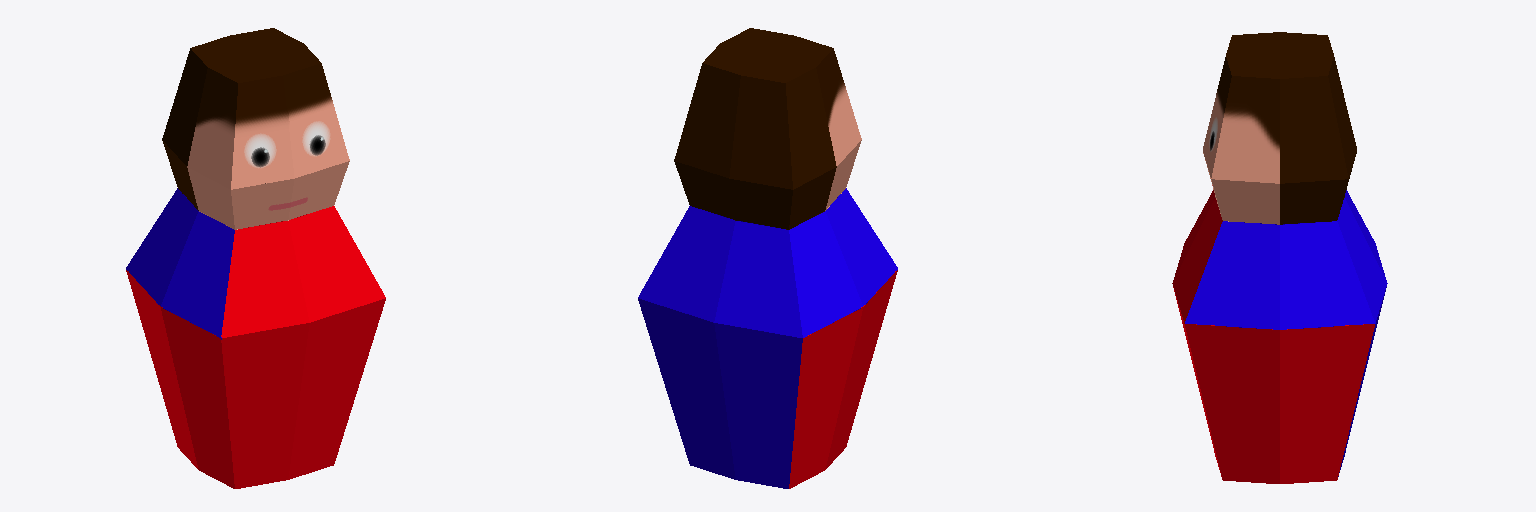
The picture shows the model from 3 angles: view 1: azimuth 30°, elevation 25°; view 2: azimuth 150°, elevation 25°; view 3: azimuth 270°, elevation 25°; orthographic projection.
Parts seen in each view (by area): view 1: Cube; view 2: Cube; view 3: Cube.
Part boxes in pixels (x1,y1,x2,y2): Cube: (126, 28, 385, 488); Cube: (638, 28, 897, 488); Cube: (1172, 32, 1387, 483).
Bounding box in the file's own units: 2.31 × 4.63 × 2.25.
Materials: 1 (1 with a texture image).